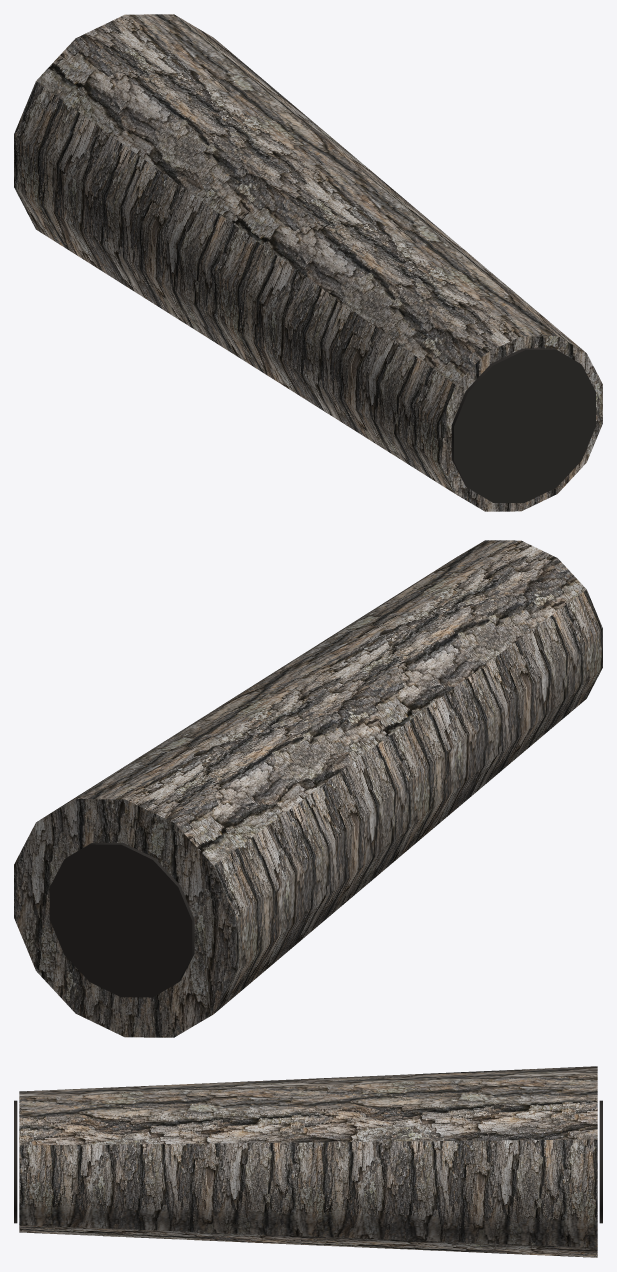
Rendered from rotted-hollow-log-v01.glb.
3 views of the same model, one above another, from view 1: azimuth 30°, elevation 25°; view 2: azimuth 150°, elevation 25°; view 3: azimuth 270°, elevation 25° (orthographic). The views are drawn at different scales.
Parts seen in each view (by area): view 1: rotted-hollow-log; view 2: rotted-hollow-log; view 3: rotted-hollow-log.
Boxes of the visible parts, x1,y1,x2,y2 form: rotted-hollow-log: [14, 14, 602, 511]; rotted-hollow-log: [14, 540, 602, 1037]; rotted-hollow-log: [14, 1066, 602, 1257].
Bounding box in the file's own units: 1.03 × 1.06 × 3.26.
Materials: 2 (1 with a texture image).
